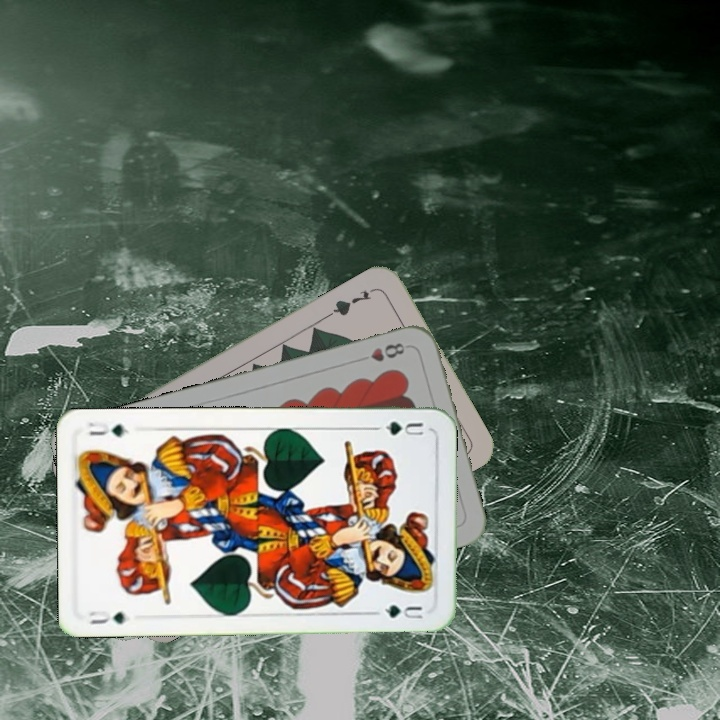G7: (325, 284, 379, 319)
GU: (381, 417, 426, 438), (84, 606, 128, 627)
H8: (367, 339, 408, 365)
